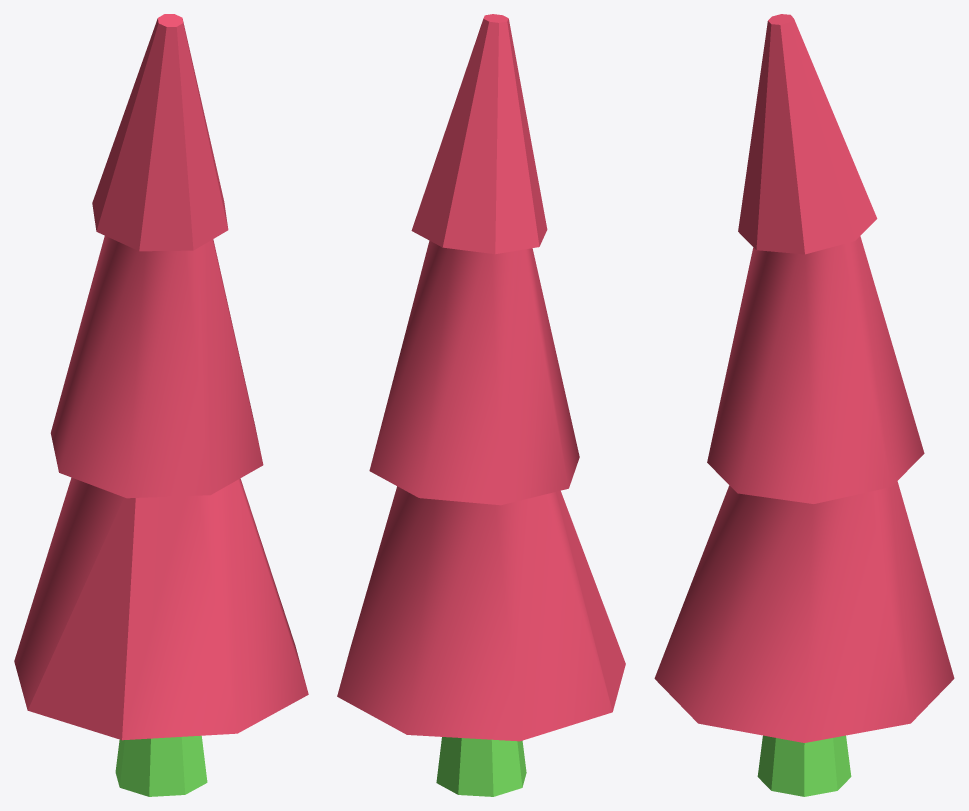
Rendered from ToyObject_118.fbx.
3 views of the same model, side by side, from view 1: azimuth 30°, elevation 25°; view 2: azimuth 150°, elevation 25°; view 3: azimuth 270°, elevation 25° (orthographic).
Parts seen in each view (by area): view 1: object-1.048; view 2: object-1.048; view 3: object-1.048.
Part boxes in pixels (box(x1,y1,x2,y2)): object-1.048: box(14, 14, 308, 796); object-1.048: box(337, 14, 625, 796); object-1.048: box(654, 14, 954, 796).
Size of the model in its own units: 0.0859 by 0.2355 by 0.0846.
